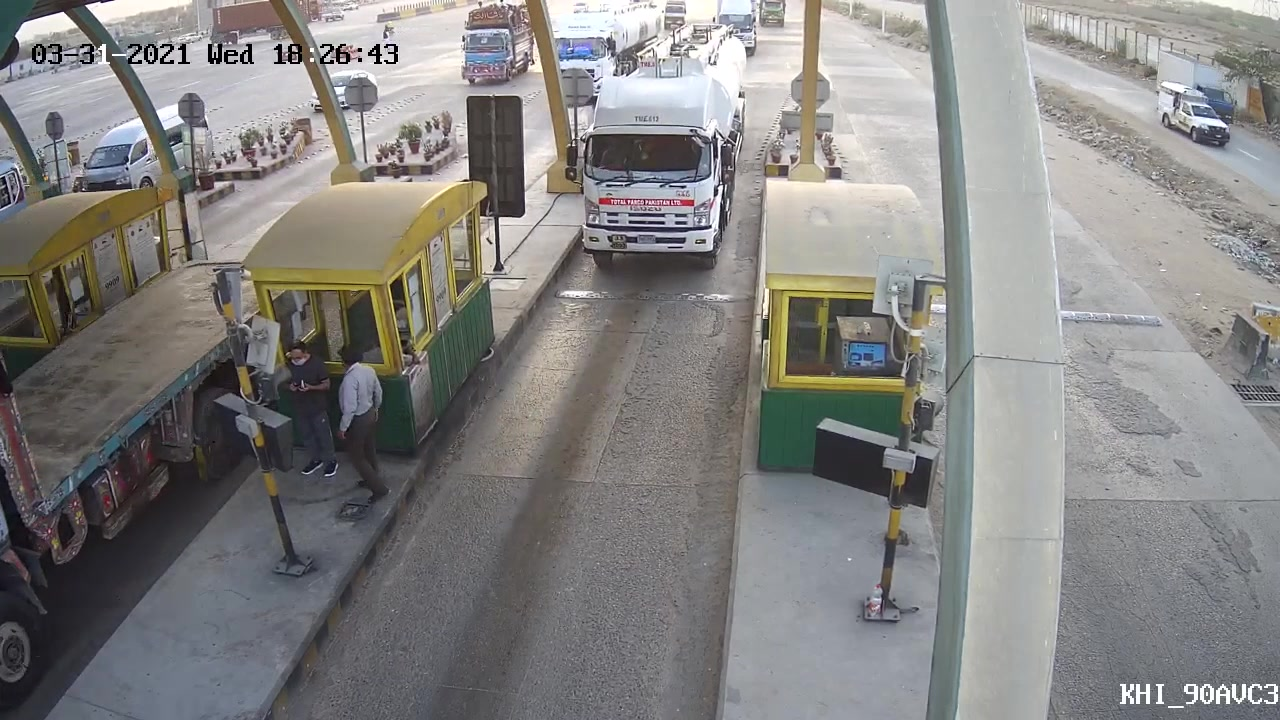F6: (563, 19, 760, 275)
